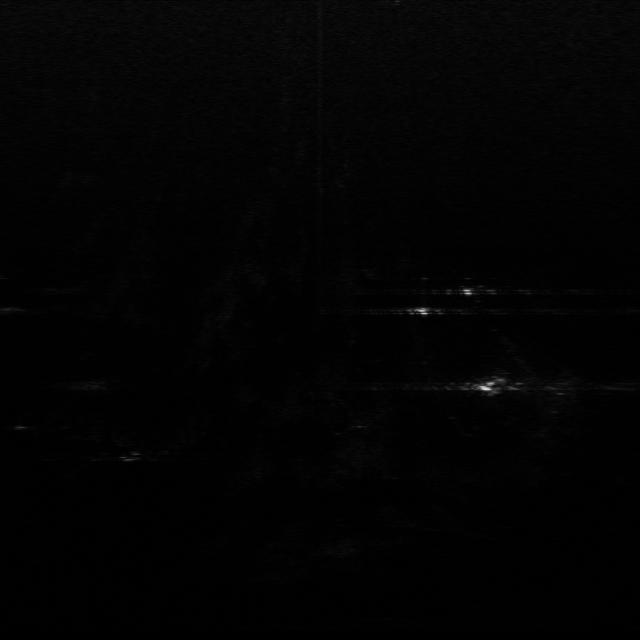rov: (473, 376, 523, 400)
